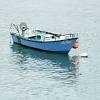kayak: (8, 23, 79, 54)
